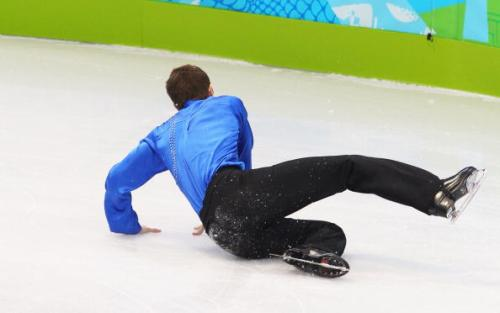fall: (98, 63, 490, 281)
